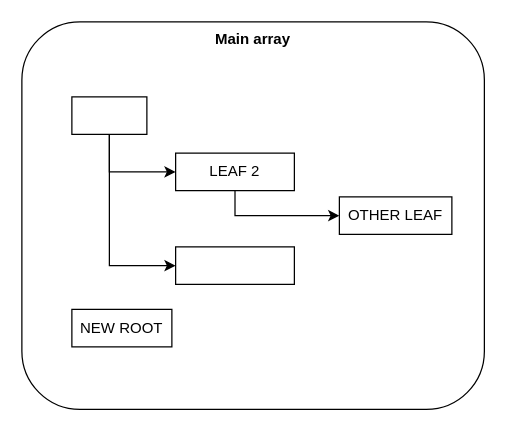
This 506x431 diagram has some shape labels left out. Here are the shapes that lost their labels. From the top down, the centre of each, then its label:
At point (109, 115): "ROOT".
At point (234, 265): "LEAF SISTER".
